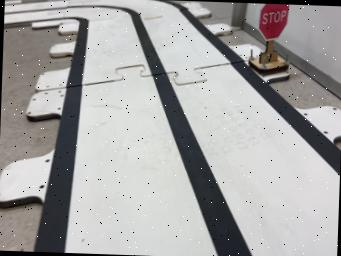stop: (248, 3, 289, 75), (248, 3, 289, 75), (248, 3, 289, 75), (248, 3, 289, 75), (248, 3, 289, 75), (248, 3, 289, 75)
street: (34, 0, 340, 256), (34, 0, 340, 256), (34, 0, 340, 256), (34, 0, 340, 256), (34, 0, 340, 256), (34, 0, 340, 256)
